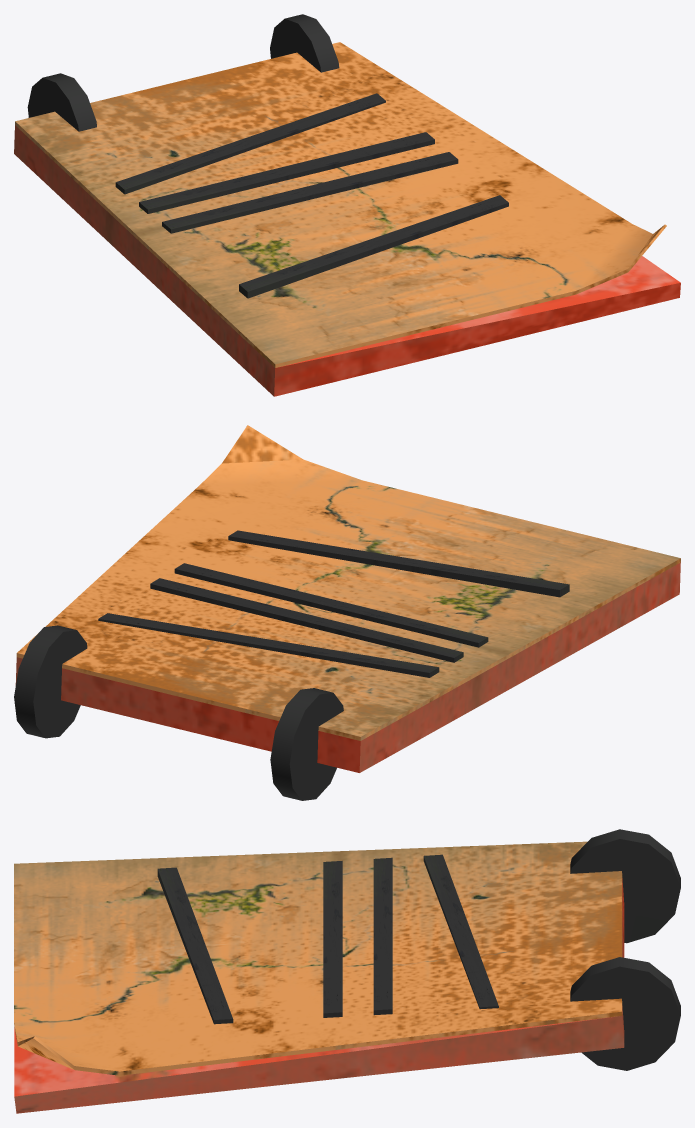
Rendered from notepad.fbx.
The picture shows the model from 3 angles, top to bottom: view 1: azimuth 30°, elevation 25°; view 2: azimuth 150°, elevation 25°; view 3: azimuth 270°, elevation 25°; orthographic projection. The views are drawn at different scales.
Visible parts, largest first — view 1: notepad; view 2: notepad; view 3: notepad.
Boxes of the visible parts, box(x1,y1,x2,y2) form: notepad: box(14, 14, 680, 396); notepad: box(14, 425, 680, 800); notepad: box(14, 829, 680, 1113).
Size of the model in its own units: 0.135 by 0.0307 by 0.1777.
